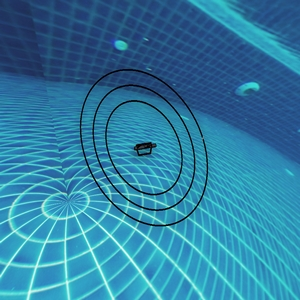circle: (79, 58, 216, 232)
submarine: (138, 137, 155, 154)
